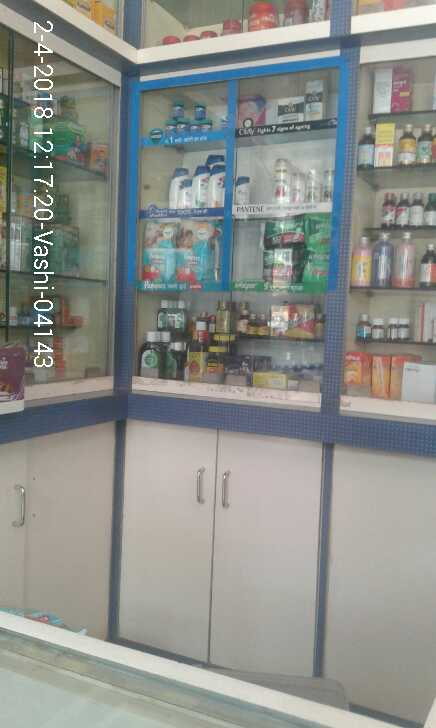vicks: (174, 118, 190, 137), (172, 98, 183, 116), (193, 102, 206, 116), (200, 118, 212, 132), (165, 121, 174, 136), (190, 120, 200, 132)
